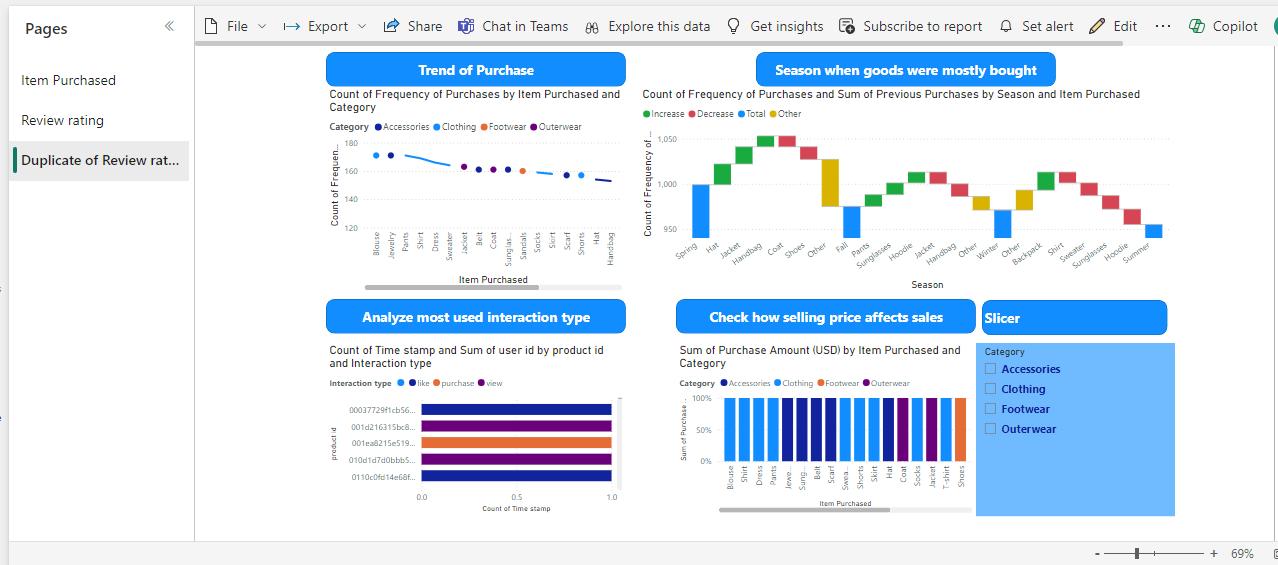

This screenshot's page, from the dashboard's own definition file:
{"tool":"powerbi","page":{"name":"Duplicate of Review rating","canvas":[1280,720],"ordinal":2},"visuals":[{"type":"shape","box":[671,8.6,436.3,50.4],"z":0},{"type":"shape","box":[44.6,8.6,436.3,50.4],"z":1000},{"type":"shape","box":[44.6,368.6,436.3,50.4],"z":2000},{"type":"shape","box":[554.4,368.6,436.3,50.4],"z":3000},{"type":"lineChart","fields":{"Series":["customer_details.Category"],"Category":["customer_details.Item Purchased"],"Y":["CountNonNull(customer_details.Frequency of Purchases)"]},"box":[45,59,436,301],"z":4000},{"type":"waterfallChart","fields":{"Category":["customer_details.Season"],"Breakdown":["customer_details.Item Purchased"],"Y":["CountNonNull(customer_details.Frequency of Purchases)"]},"box":[501,59,779,301],"z":5000},{"type":"barChart","fields":{"Series":["E-commerece sales data 2024.Interaction type"],"Category":["E-commerece sales data 2024.product id"],"Y":["CountNonNull(E-commerece sales data 2024.Time stamp)"]},"box":[44.6,432,436.3,252],"z":6000},{"type":"hundredPercentStackedColumnChart","fields":{"Category":["customer_details.Item Purchased"],"Y":["Sum(customer_details.Purchase Amount (USD))"],"Series":["customer_details.Category"]},"box":[554,432,436,252],"z":7000},{"type":"slicer","fields":{"Values":["customer_details.Category"]},"box":[990,432,290,252],"z":8000},{"type":"shape","box":[999.4,368.8,269.8,51.1],"z":8001}]}

Visuals, with their boxes on the page's 1280x720 design canvas (x1, y1, x2, y2). These are canvas units, not pixel positions in the 1278x565 screenshot, which may show the page scaled, cropped or inside an application window:
shape: 671/9/1107/59
shape: 45/9/481/59
shape: 45/369/481/419
shape: 554/369/991/419
lineChart - customer_details.Category x customer_details.Item Purchased: 45/59/481/360
waterfallChart - customer_details.Season x customer_details.Item Purchased: 501/59/1280/360
barChart - E-commerece sales data 2024.Interaction type x E-commerece sales data 2024.product id: 45/432/481/684
hundredPercentStackedColumnChart - customer_details.Item Purchased x Sum(customer_details.Purchase Amount (USD)): 554/432/990/684
slicer - customer_details.Category: 990/432/1280/684
shape: 999/369/1269/420
